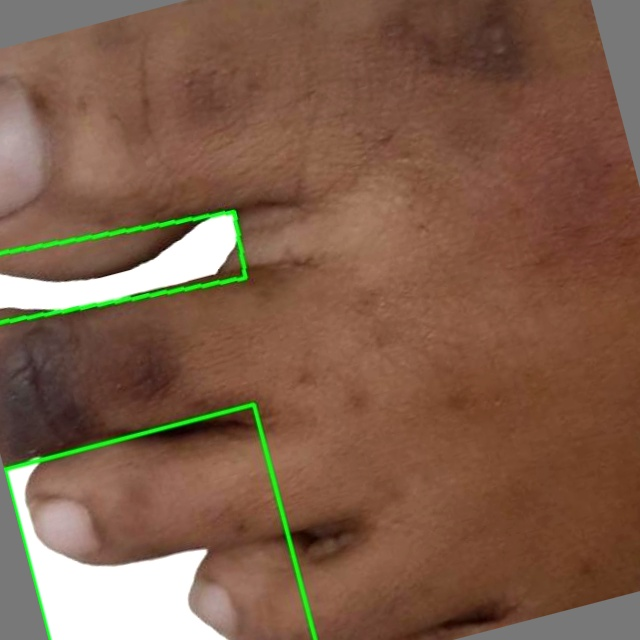Tinea Corporis: (4, 404, 315, 639), (0, 211, 246, 322)
